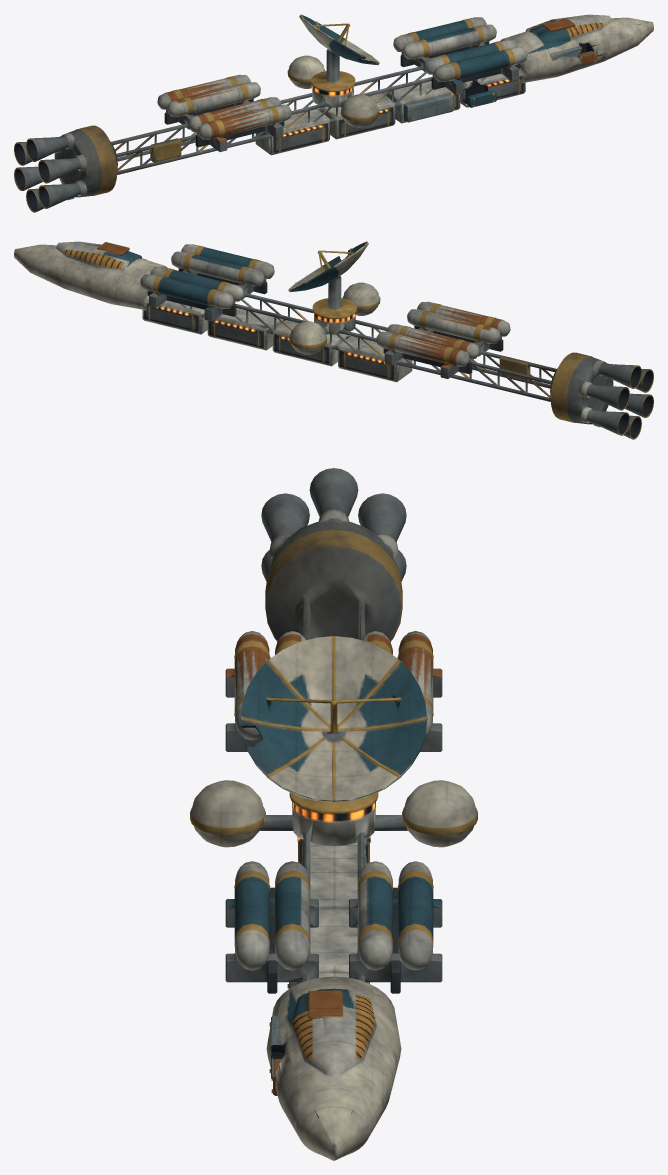
File: spine-patched.glb
The picture shows the model from 3 angles, top to bottom: view 1: azimuth 30°, elevation 25°; view 2: azimuth 150°, elevation 25°; view 3: azimuth 270°, elevation 25°; orthographic projection. The views are drawn at different scales.
Visible parts, largest first — view 1: spine-patched; view 2: spine-patched; view 3: spine-patched.
Part boxes in pixels (x1,y1,x2,y2): spine-patched: [14, 14, 653, 212]; spine-patched: [14, 241, 653, 439]; spine-patched: [190, 468, 477, 1160].
Bounding box in the file's own units: 1 × 0.1902 × 0.201.
1 material, 1 textured.
